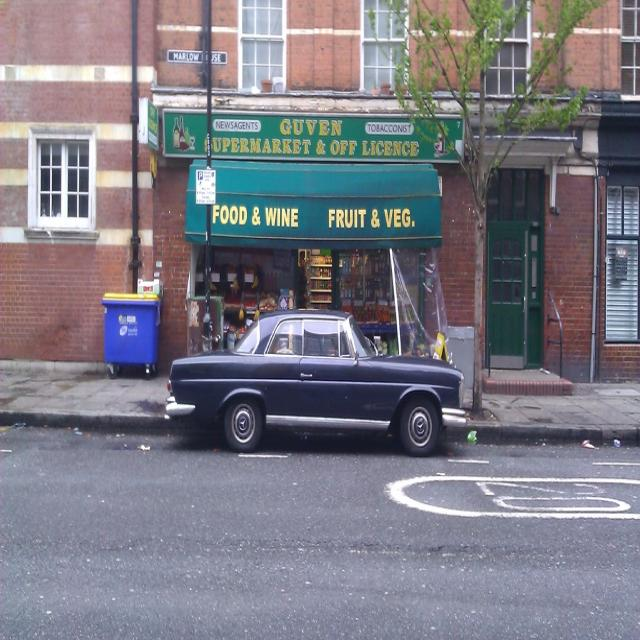car: (162, 304, 472, 453)
